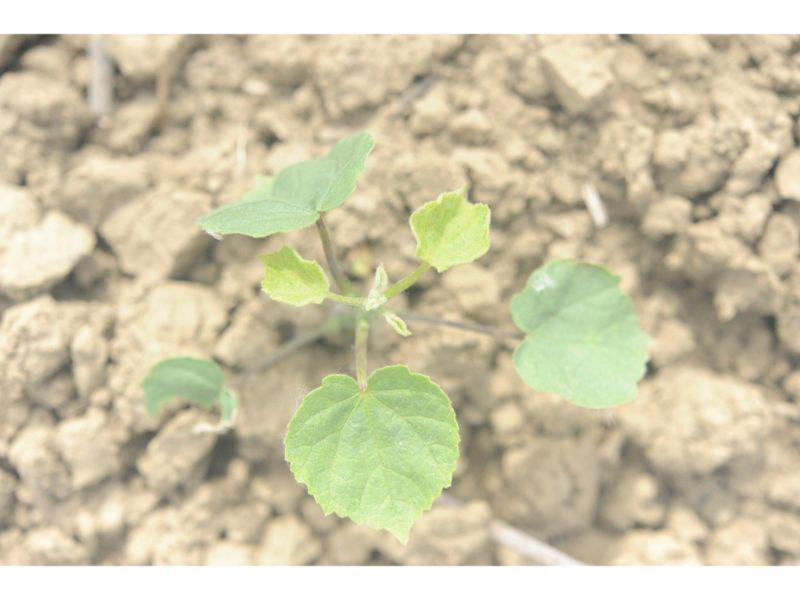velvet: (139, 137, 649, 539)
